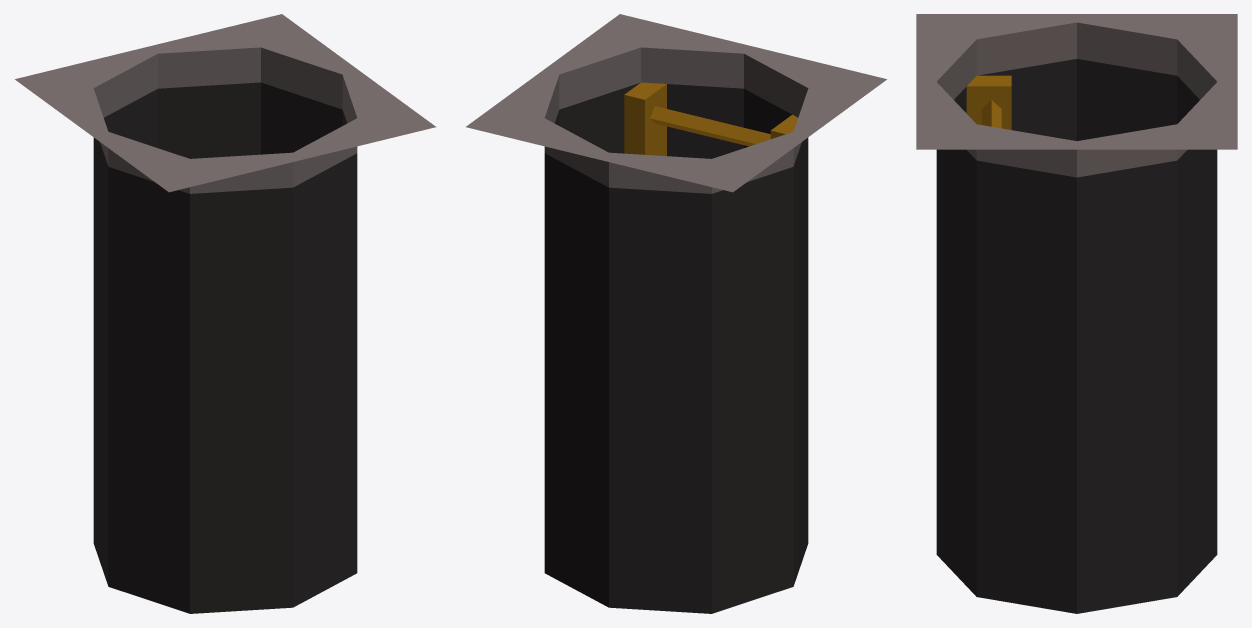
The model's file is obj_manhole_4_0.obj.
3 renders of one model, left to right at view 1: azimuth 30°, elevation 25°; view 2: azimuth 150°, elevation 25°; view 3: azimuth 270°, elevation 25°, orthographic. The views are drawn at different scales.
Size of the model in its own units: 1 by 1.62 by 1.
